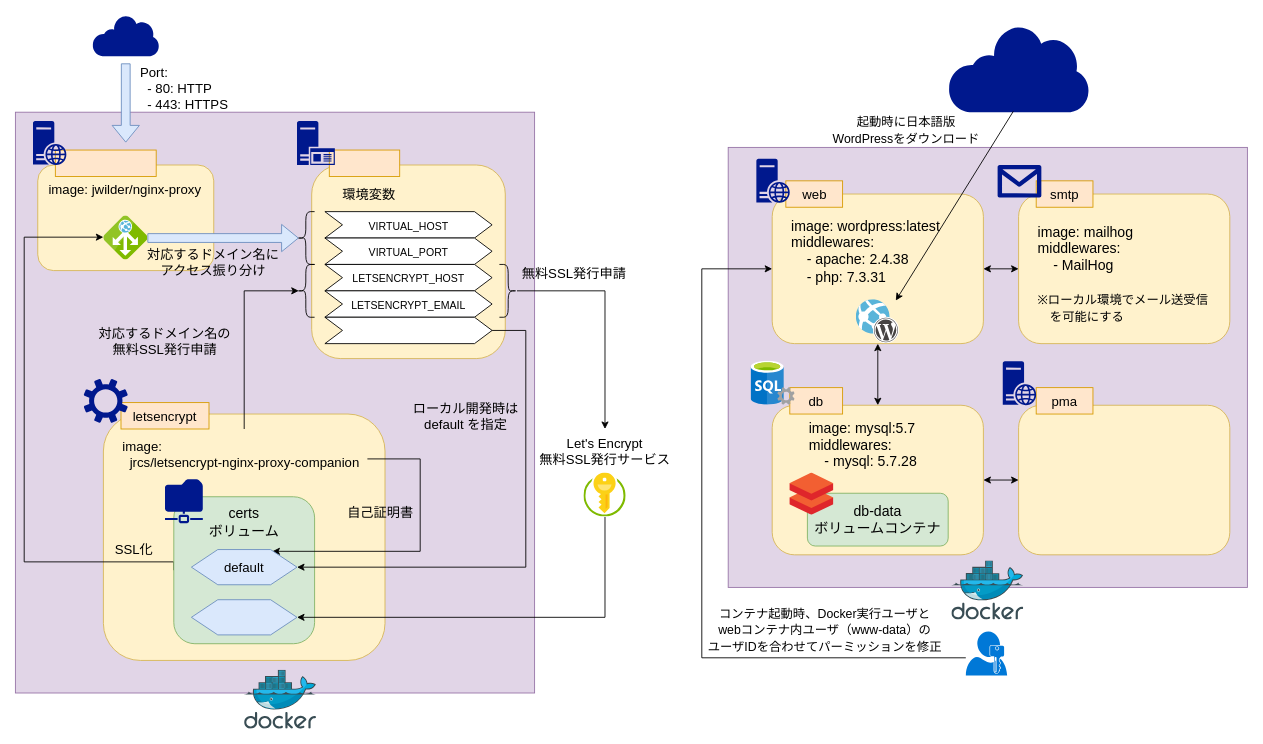
Some shapes in this 1263 by 744 pixel diagram are drawn without their labels. Here are the shapes that lost their labels. From the top down, the centre of each, then its label:
At [1018,68]: "ja.wordpress.org".
At [105,162]: "nginx-proxy".
At [364,162]: "APP 1".
At [408,330]: "CERT_NAME".
At [1124,479]: "image: phpmyadmin:latest middlewares: - phpMyAdmin: 5.0.0 ※データベースの内容確認用".
At [244,617]: "SSL keys".
